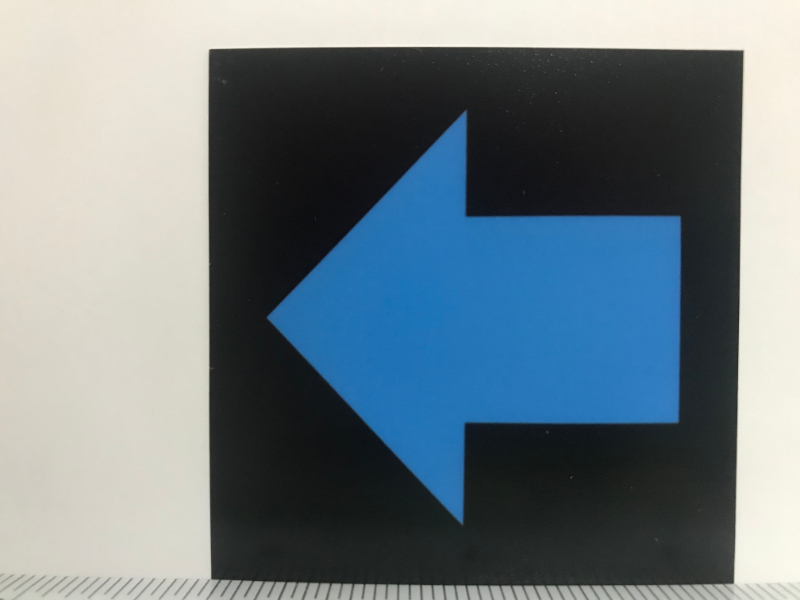LA-4: (216, 55, 729, 579)
